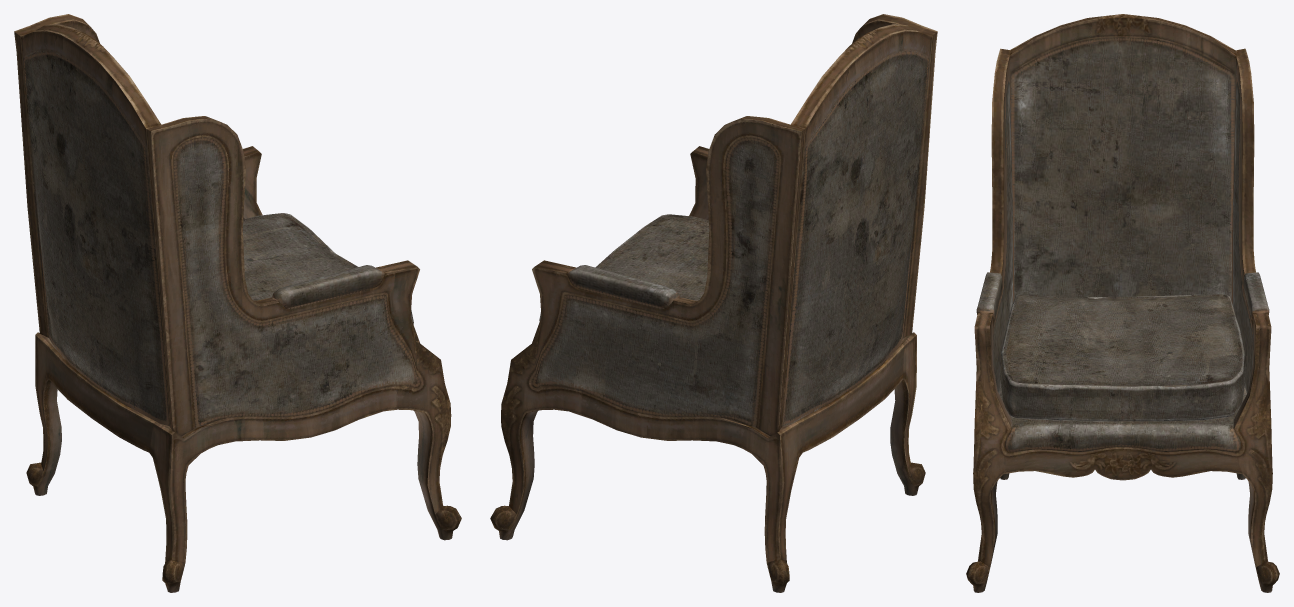
File: SM_ChaiseFauteuilA.fbx
The picture shows the model from 3 angles, left to right: view 1: azimuth 30°, elevation 25°; view 2: azimuth 150°, elevation 25°; view 3: azimuth 270°, elevation 25°; orthographic projection. The views are drawn at different scales.
Parts seen in each view (by area): view 1: SM_BergereA; view 2: SM_BergereA; view 3: SM_BergereA.
Part boxes in pixels (x1,y1,x2,y2): SM_BergereA: (14,14,461,592); SM_BergereA: (490,14,937,592); SM_BergereA: (966,14,1279,592).
Size of the model in its own units: 81.26 by 131 by 81.76.
1 material, 1 textured.
